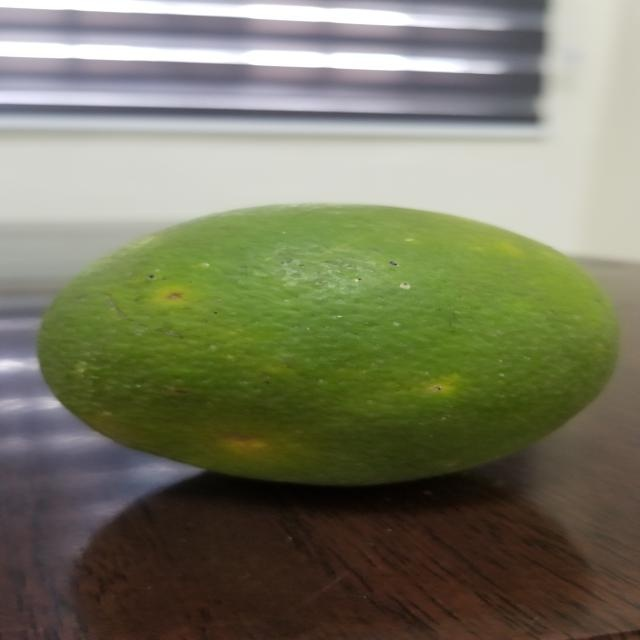agrume: (45, 196, 640, 490)
